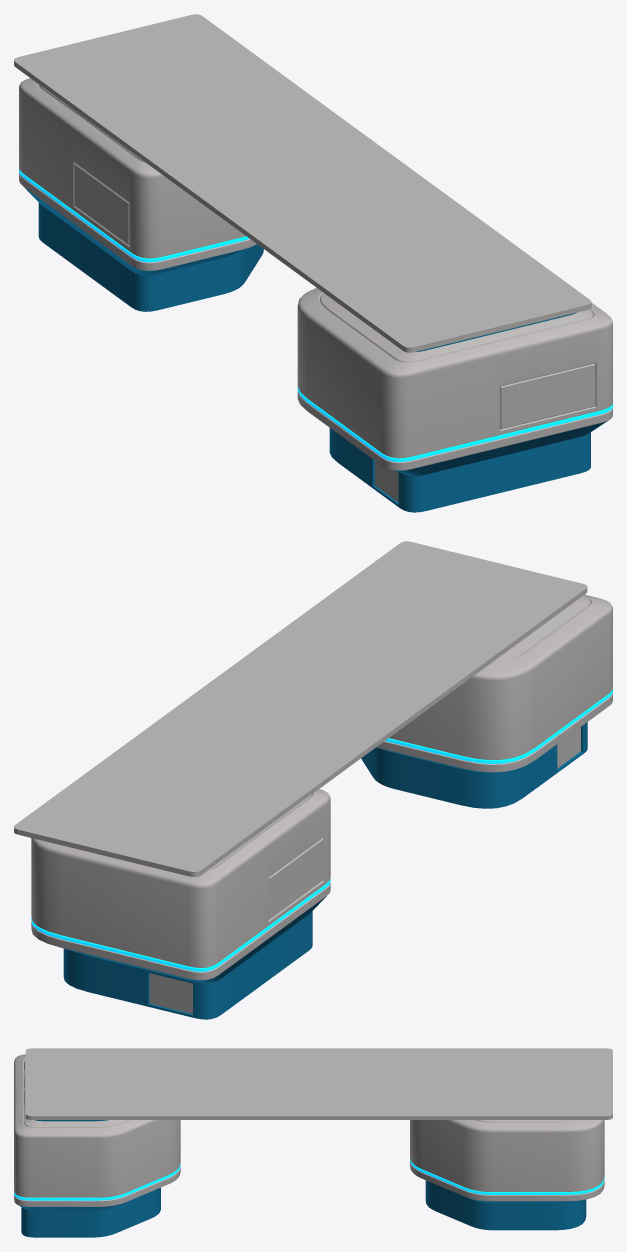
Rendered from LabDeskA.fbx.
3 renders of one model, top to bottom at view 1: azimuth 30°, elevation 25°; view 2: azimuth 150°, elevation 25°; view 3: azimuth 270°, elevation 25°, orthographic. The views are drawn at different scales.
Visible parts, largest first — view 1: LabDeskA; view 2: LabDeskA; view 3: LabDeskA.
Part boxes in pixels (x1,y1,x2,y2): LabDeskA: (14, 14, 612, 512); LabDeskA: (14, 541, 612, 1019); LabDeskA: (14, 1048, 612, 1237).
Bounding box in the file's own units: 117 × 80.55 × 360.
